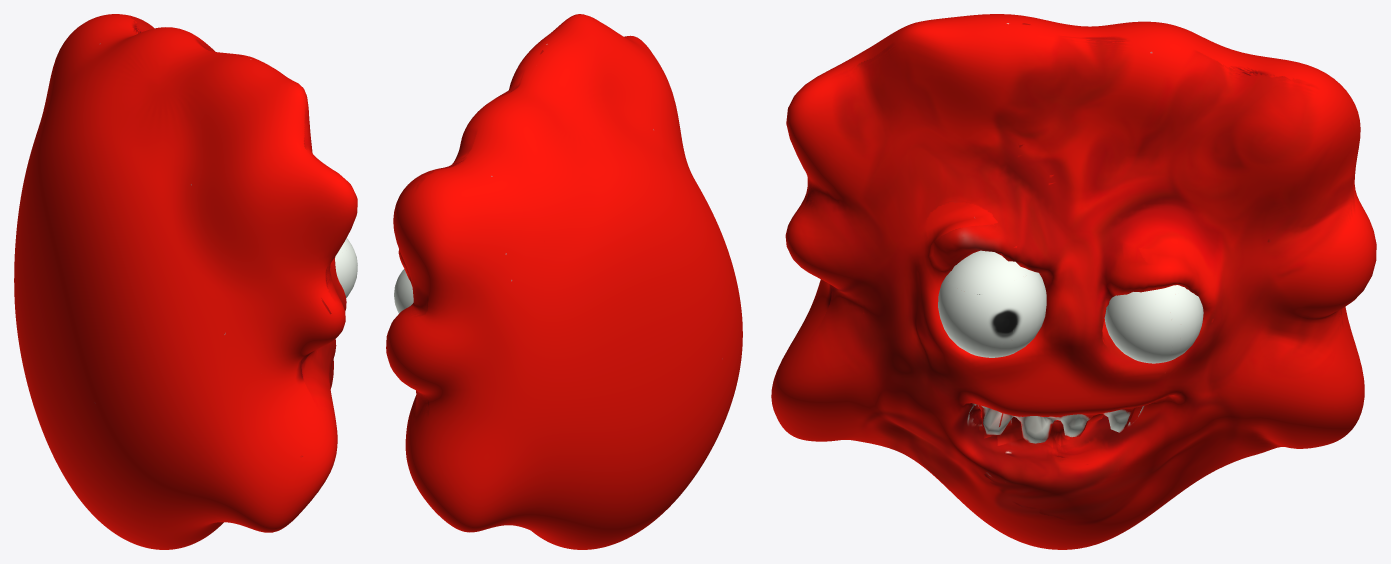
The model's file is redmodel.fbx.
3 renders of one model, left to right at view 1: azimuth 30°, elevation 25°; view 2: azimuth 150°, elevation 25°; view 3: azimuth 270°, elevation 25°, orthographic. The views are drawn at different scales.
Parts seen in each view (by area): view 1: Sphere.004; view 2: Sphere.004; view 3: Sphere.004.
Part boxes in pixels (x1,y1,x2,y2): Sphere.004: (14,14,357,549); Sphere.004: (386,14,742,549); Sphere.004: (771,14,1376,549).
Size of the model in its own units: 1.39 by 2.42 by 2.39.
